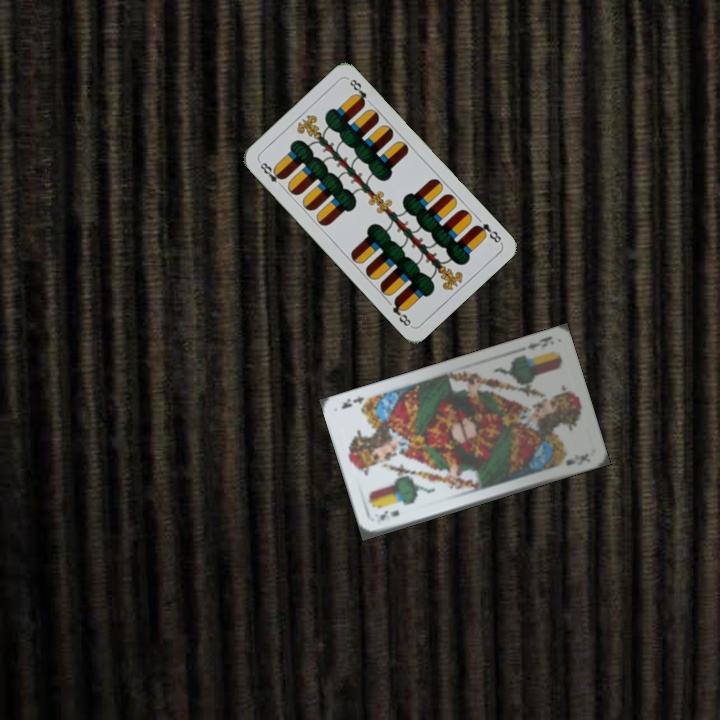E8: (255, 157, 287, 191), (470, 219, 504, 246)
EK: (523, 332, 555, 353), (375, 506, 402, 524)
